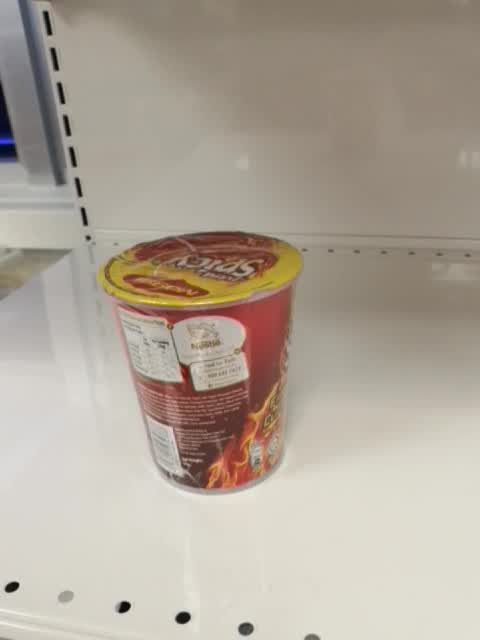maggi: (98, 231, 304, 497)
